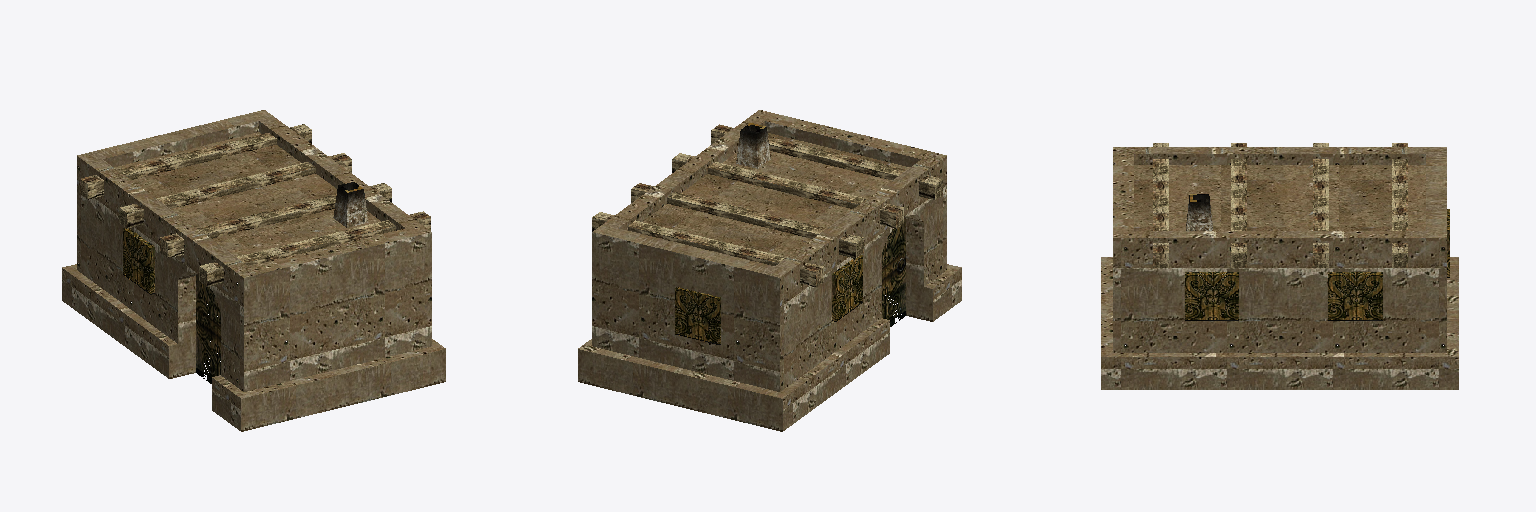
3 renders of one model, left to right at view 1: azimuth 30°, elevation 25°; view 2: azimuth 150°, elevation 25°; view 3: azimuth 270°, elevation 25°, orthographic.
Parts seen in each view (by area): view 1: Mesh_1, Mesh_3, Mesh_0, Mesh_2; view 2: Mesh_1, Mesh_3, Mesh_0, Mesh_2; view 3: Mesh_1, Mesh_0, Mesh_3.
Part boxes in pixels (x1,y1,x2,y2): Mesh_1: (62, 110, 445, 431); Mesh_3: (80, 124, 430, 294); Mesh_0: (114, 132, 380, 256); Mesh_2: (196, 273, 220, 383); Mesh_1: (578, 110, 961, 431); Mesh_3: (592, 123, 942, 344); Mesh_0: (643, 133, 909, 256); Mesh_2: (882, 217, 905, 326); Mesh_1: (1101, 147, 1458, 389); Mesh_0: (1134, 165, 1425, 230); Mesh_3: (1153, 143, 1449, 320).
Size of the model in its own units: 4.35 by 3.15 by 6.03.
Materials: 4 (4 with a texture image).